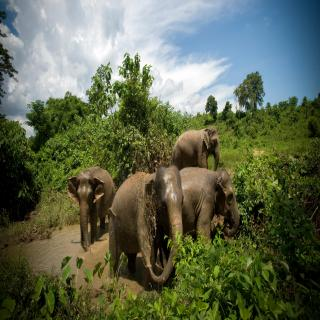Elephant: (107, 162, 186, 282), (174, 158, 248, 244), (66, 162, 122, 264), (165, 119, 225, 175)
